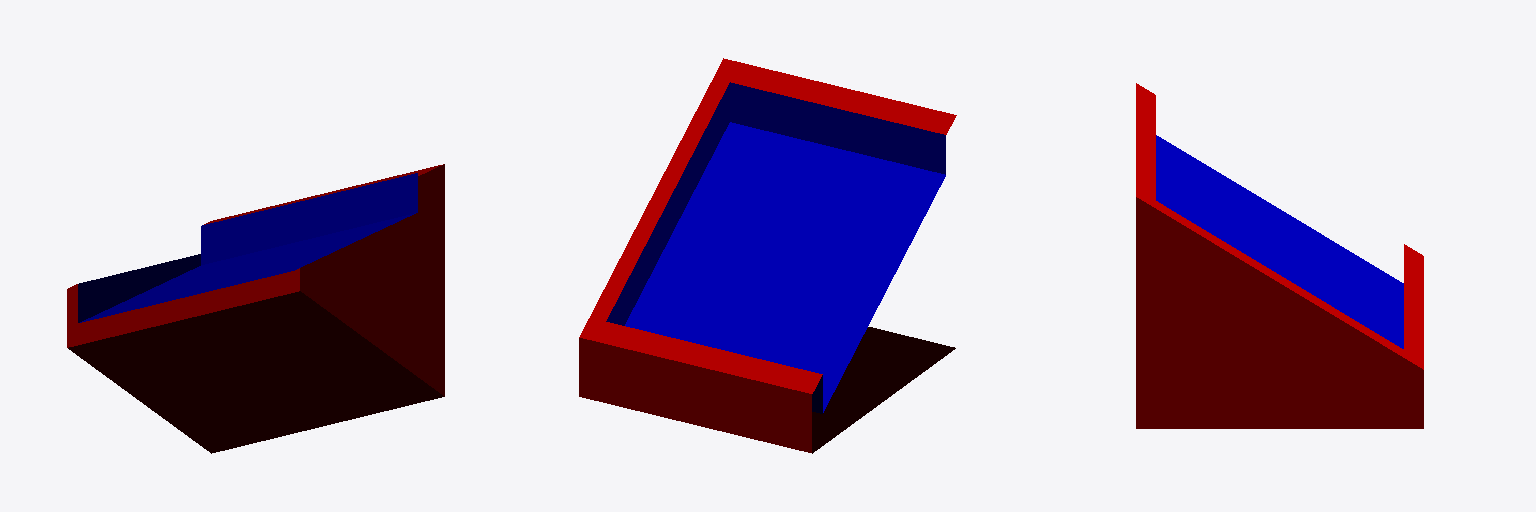
Rendered from stands_left.obj.
The picture shows the model from 3 angles: view 1: azimuth 30°, elevation 25°; view 2: azimuth 150°, elevation 25°; view 3: azimuth 270°, elevation 25°; orthographic projection.
Parts seen in each view (by area): view 1: Plane; view 2: Plane; view 3: Plane.
Part boxes in pixels (x1,y1,x2,y2): Plane: (67,164,444,453); Plane: (579,58,956,453); Plane: (1136,83,1423,428).
Bounding box in the file's own units: 70 × 66.75 × 75.